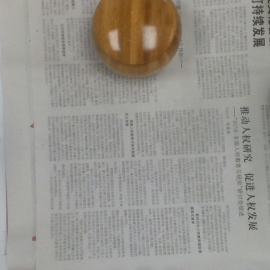chess: (90, 1, 182, 76)
